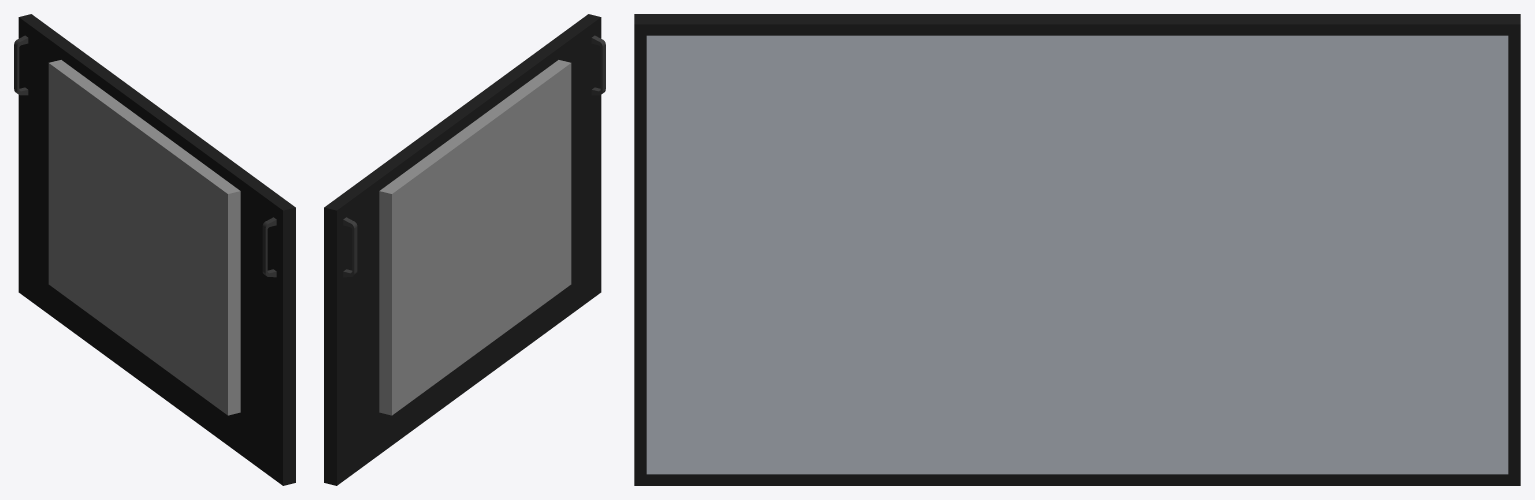
The picture shows the model from 3 angles, left to right: view 1: azimuth 30°, elevation 25°; view 2: azimuth 150°, elevation 25°; view 3: azimuth 270°, elevation 25°; orthographic projection. The views are drawn at different scales.
Parts seen in each view (by area): view 1: SketchUp (×4); view 2: SketchUp (×4); view 3: SketchUp (×2).
Part boxes in pixels (left/top/right/bottom): SketchUp (×4): left=14, top=14, right=295, bottom=485; SketchUp (×4): left=324, top=14, right=605, bottom=485; SketchUp (×2): left=634, top=14, right=1520, bottom=485.
Bounding box in the file's own units: 2.72 × 48.99 × 28.16.
4 materials, 4 textured.
